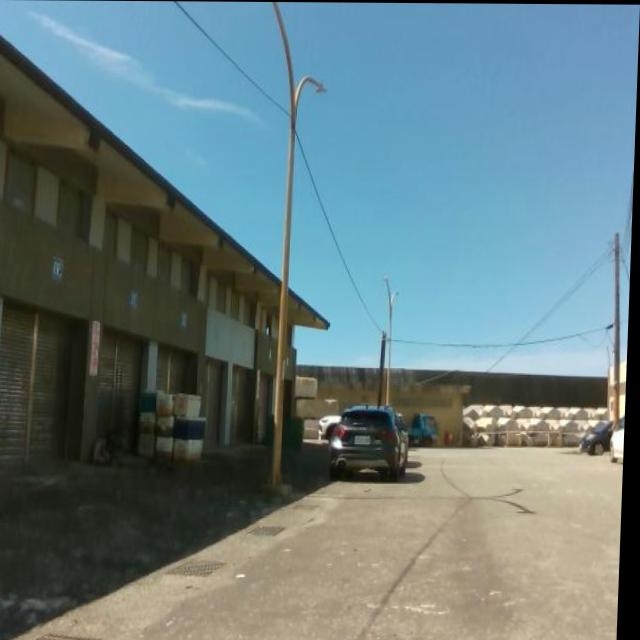pollute: (138, 390, 214, 461)
